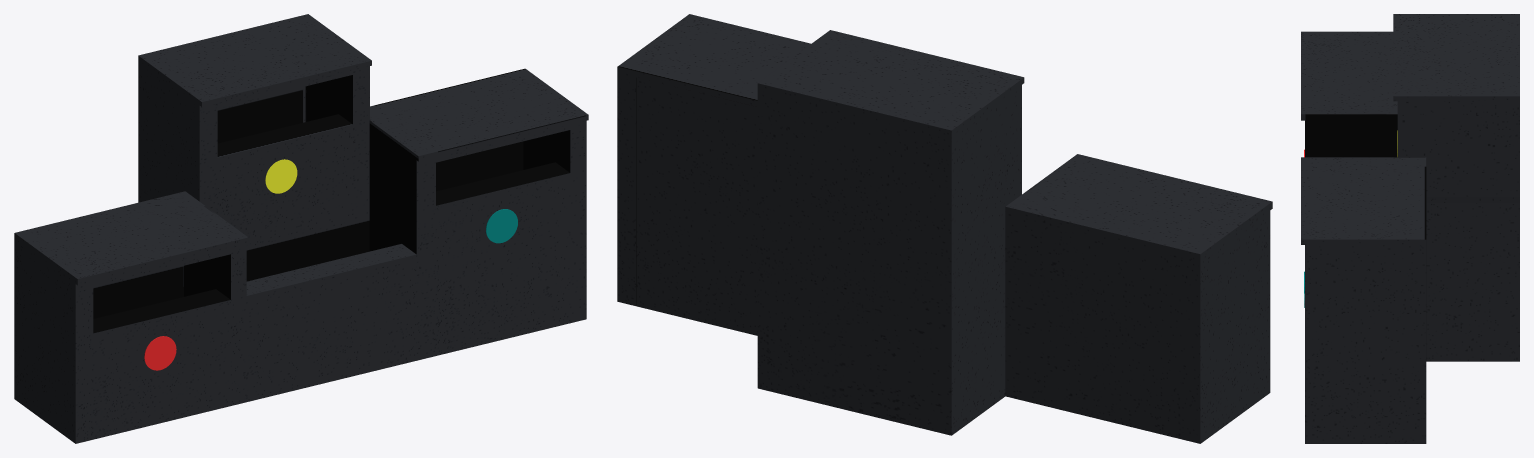
File: Tempat sampah.fbx
3 views of the same model, side by side, from view 1: azimuth 30°, elevation 25°; view 2: azimuth 150°, elevation 25°; view 3: azimuth 270°, elevation 25° (orthographic). The views are drawn at different scales.
Visible parts, largest first — view 1: Tempat sampah; view 2: Tempat sampah; view 3: Tempat sampah.
Boxes of the visible parts, box(x1,y1,x2,y2) form: Tempat sampah: box(14, 14, 588, 443); Tempat sampah: box(617, 14, 1272, 443); Tempat sampah: box(1301, 14, 1519, 443).
Size of the model in its own units: 150 by 75.01 by 56.06.
